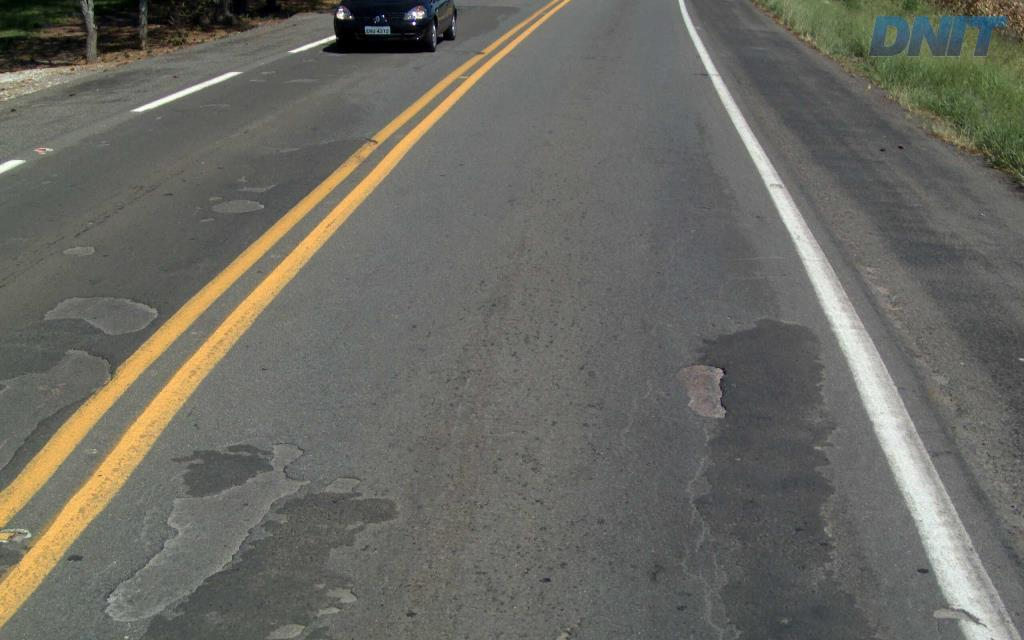pothole: (101, 433, 313, 631), (675, 352, 739, 423), (321, 471, 364, 497), (260, 620, 308, 638), (324, 580, 357, 604), (312, 604, 343, 622)
